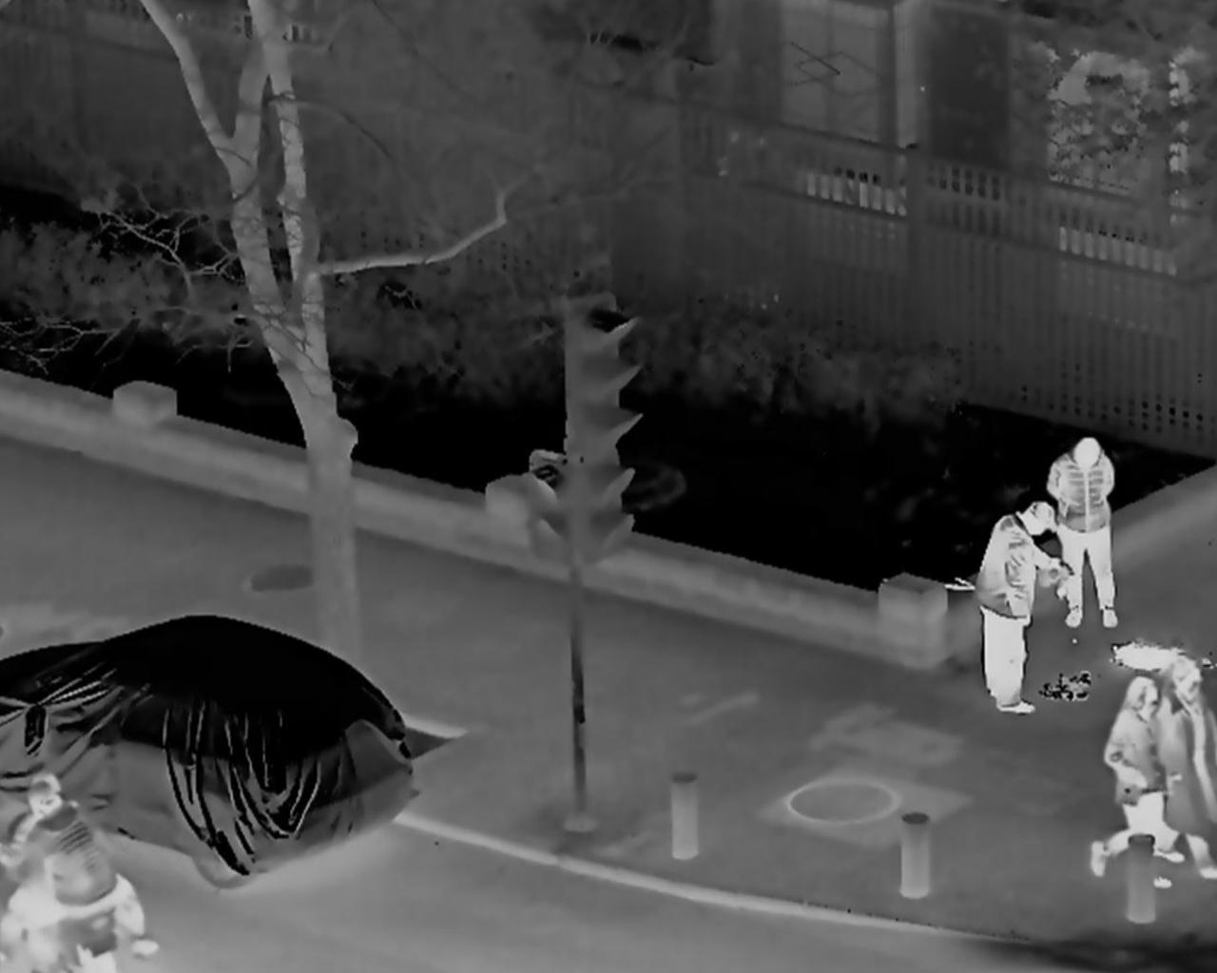person: (20, 784, 162, 968), (970, 496, 1061, 715), (1095, 676, 1175, 889), (1045, 435, 1125, 631), (1154, 668, 1217, 878)
